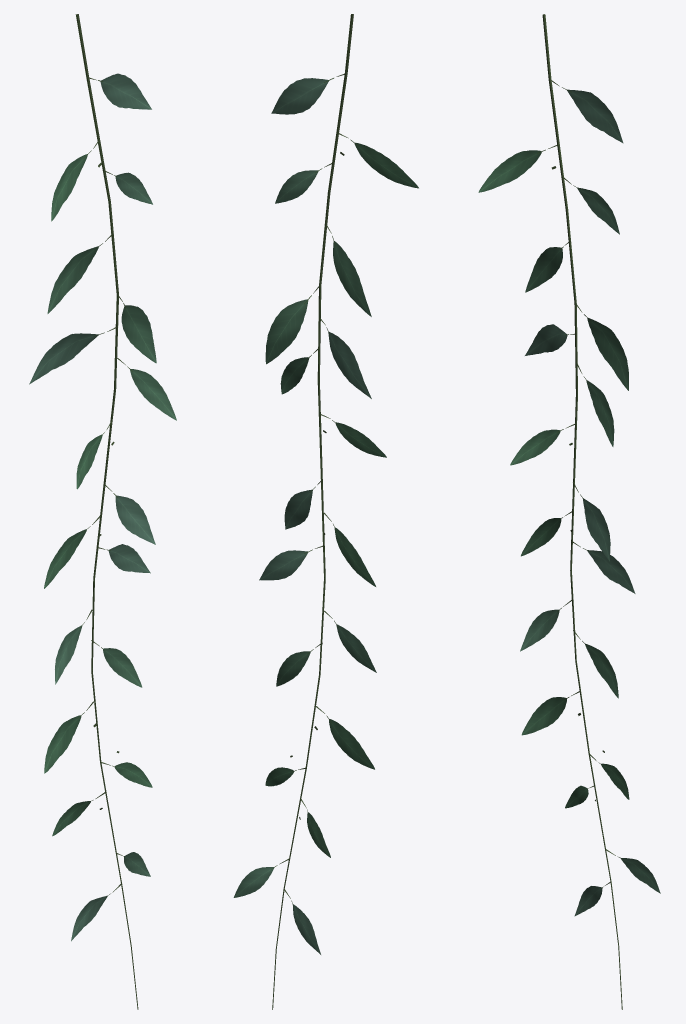
The model's file is Vine1.fbx.
3 renders of one model, left to right at view 1: azimuth 30°, elevation 25°; view 2: azimuth 150°, elevation 25°; view 3: azimuth 330°, elevation 25°, orthographic. The views are drawn at different scales.
Visible parts, largest first — view 1: Vine_A_SingleDrape; view 2: Vine_A_SingleDrape; view 3: Vine_A_SingleDrape.
Part boxes in pixels (x1=…): Vine_A_SingleDrape: x1=29, y1=14, x2=176, y2=1009; Vine_A_SingleDrape: x1=233, y1=14, x2=418, y2=1009; Vine_A_SingleDrape: x1=478, y1=14, x2=660, y2=1009.
Bounding box in the file's own units: 28.55 × 165 × 13.83.
